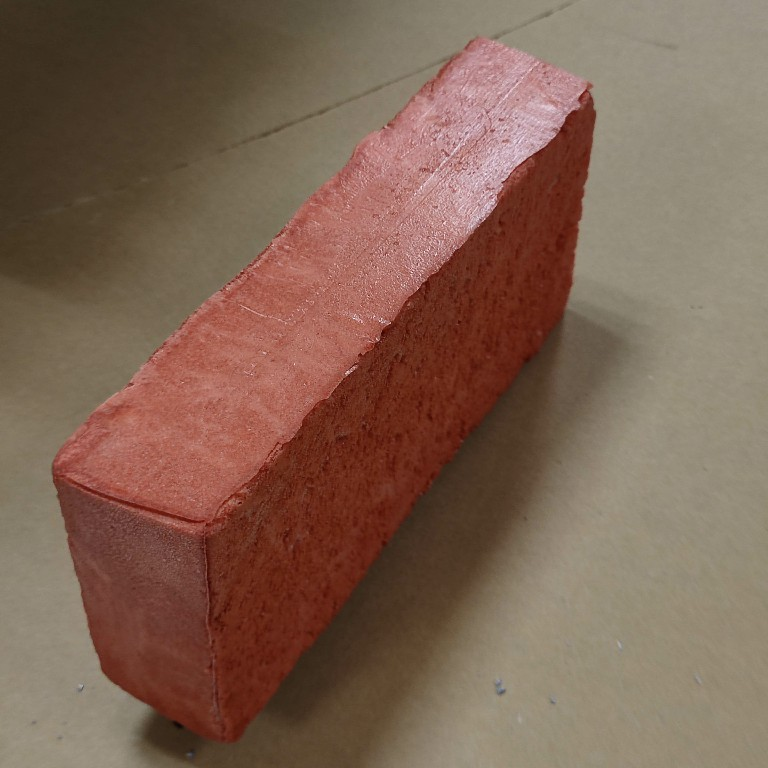brick: (49, 31, 598, 745)
